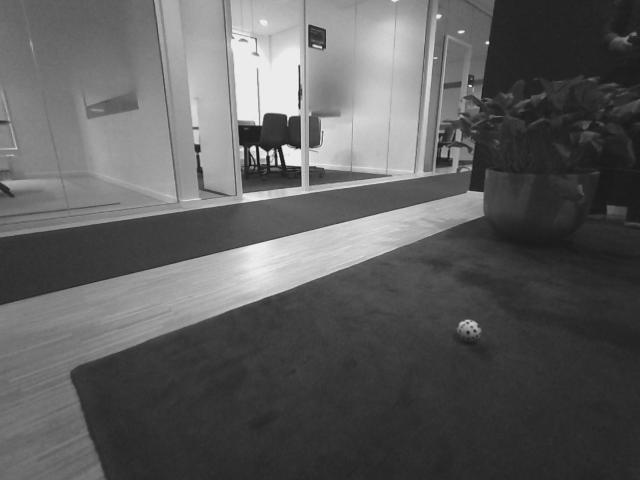dogtoy: (450, 312, 488, 348)
